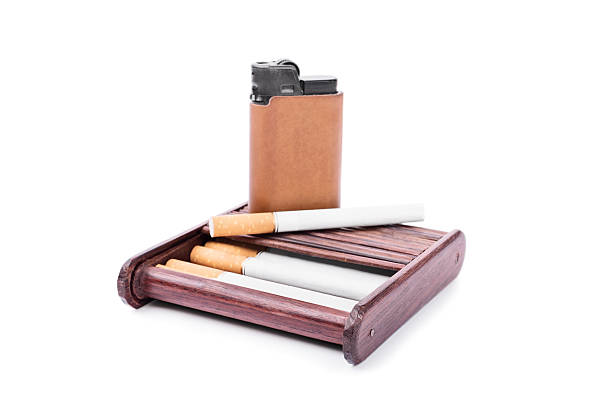cigarette: (189, 245, 384, 303), (164, 258, 360, 312), (203, 239, 392, 285), (207, 202, 426, 238)
